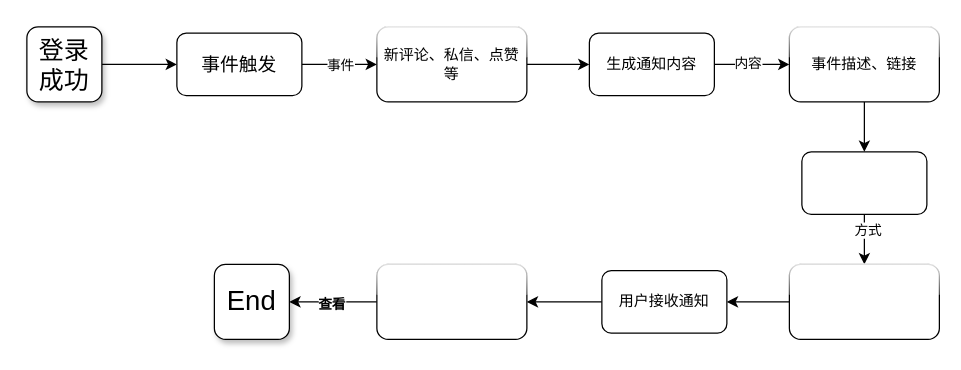
The diagram is 961 pixels wide and 370 high, and some of its shapes have lost their labels. The centre of each missing label's shape, as x and y in pixels:
发送通知: the point at 864,182
用户查看通知详情: the point at 451,301
站内通知、实时提醒: the point at 863,301
